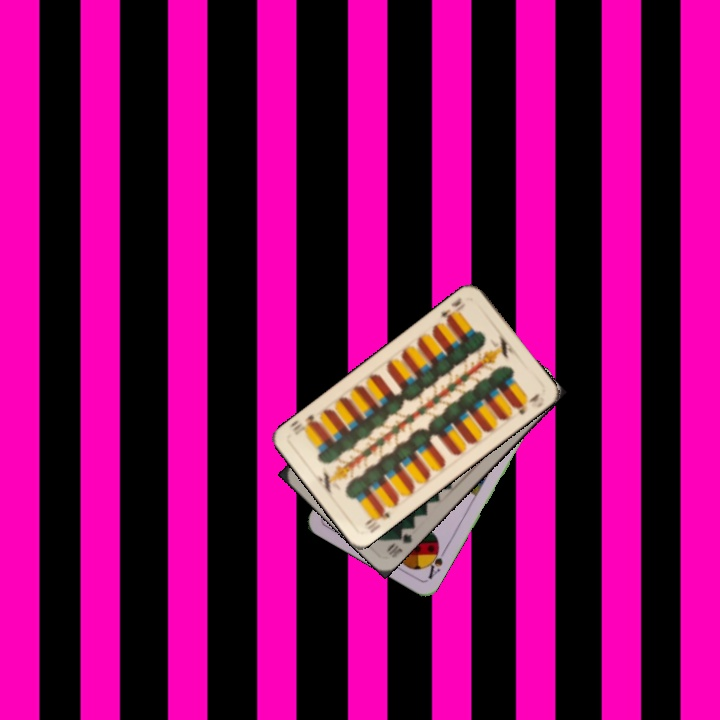E10: (361, 504, 393, 536), (437, 294, 464, 327)
G10: (382, 523, 414, 560)
SA: (422, 542, 449, 582)
